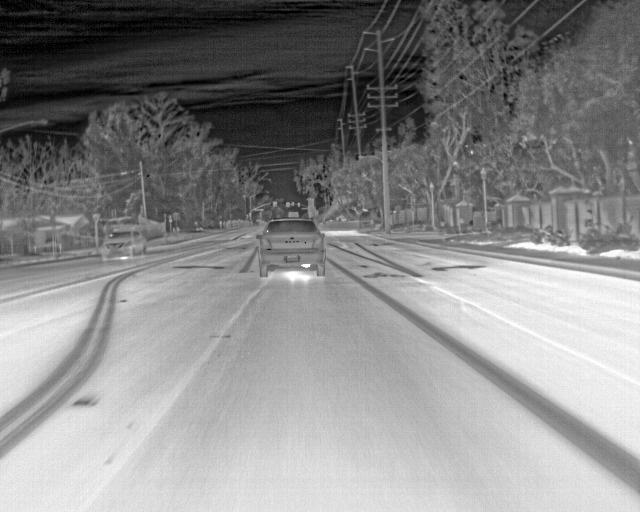car: (256, 218, 326, 278), (99, 226, 147, 260)
